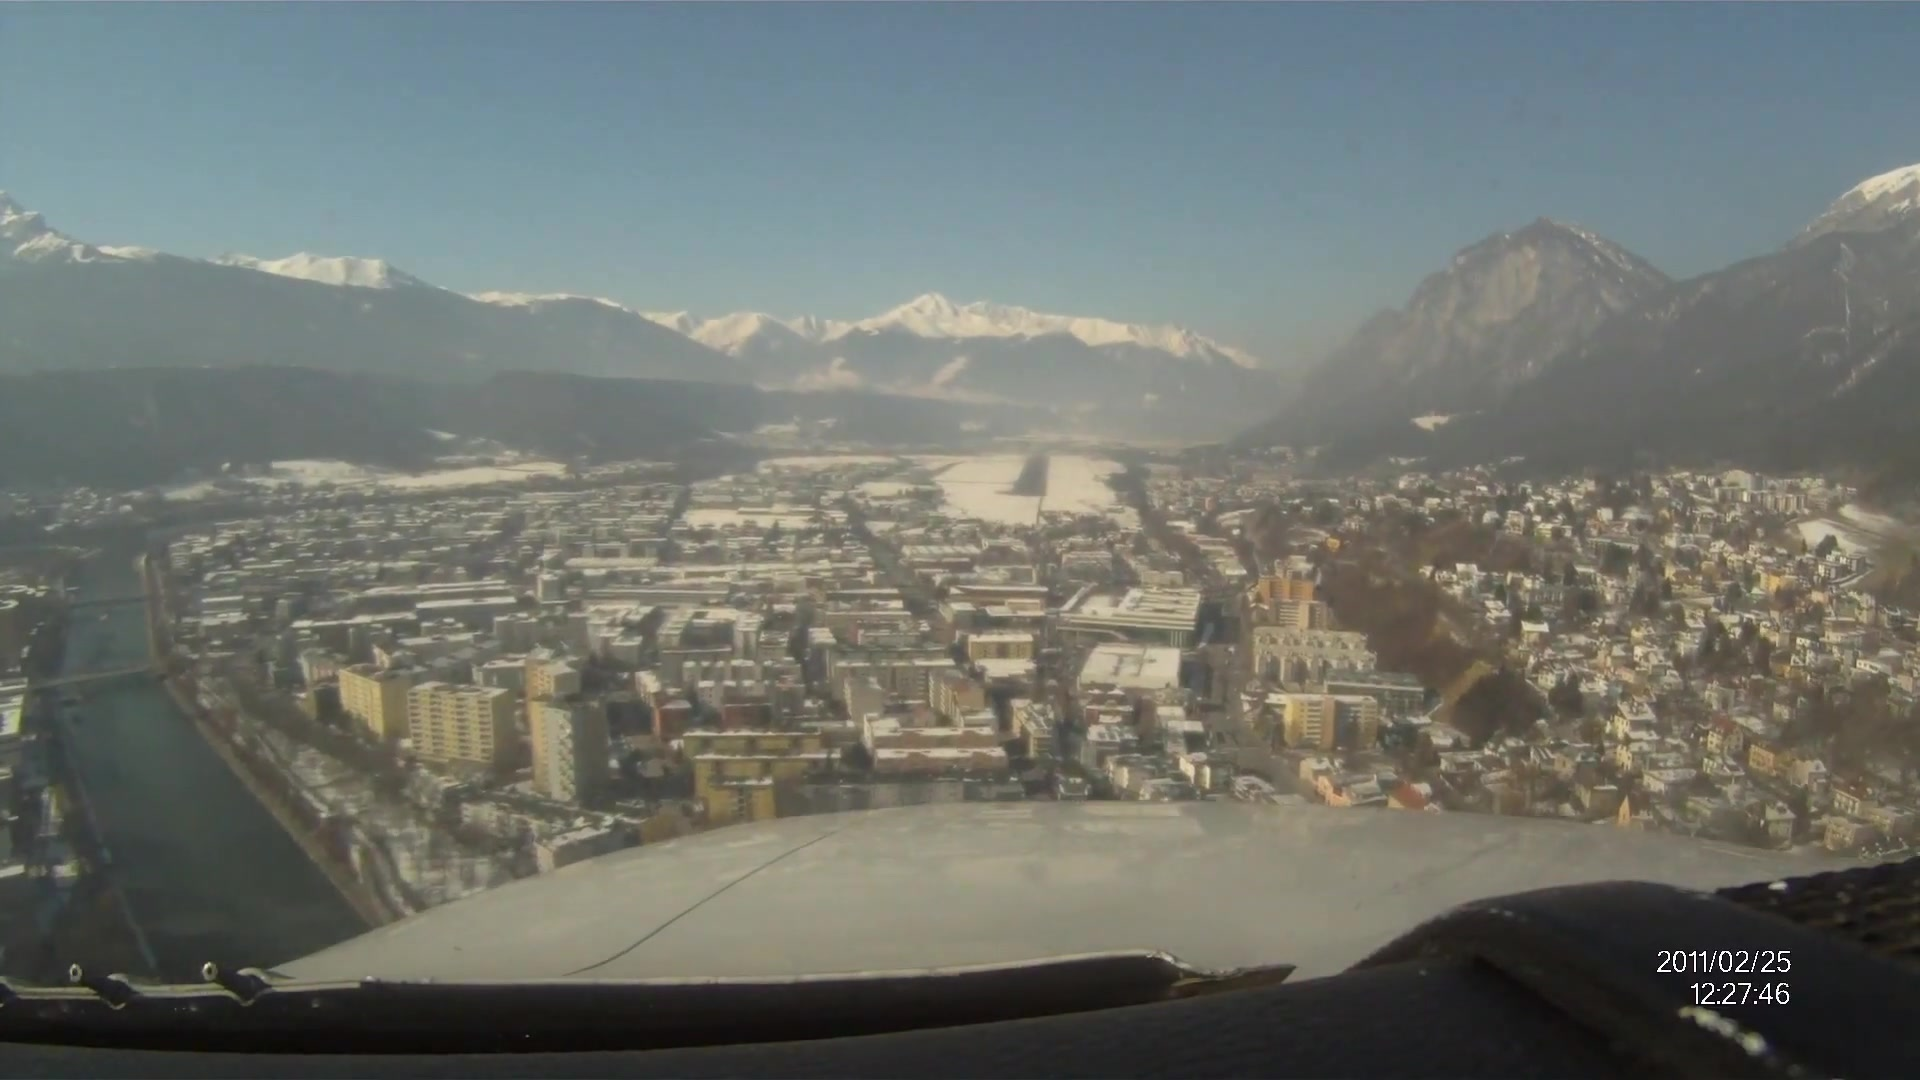runway: (1007, 450, 1054, 498)
